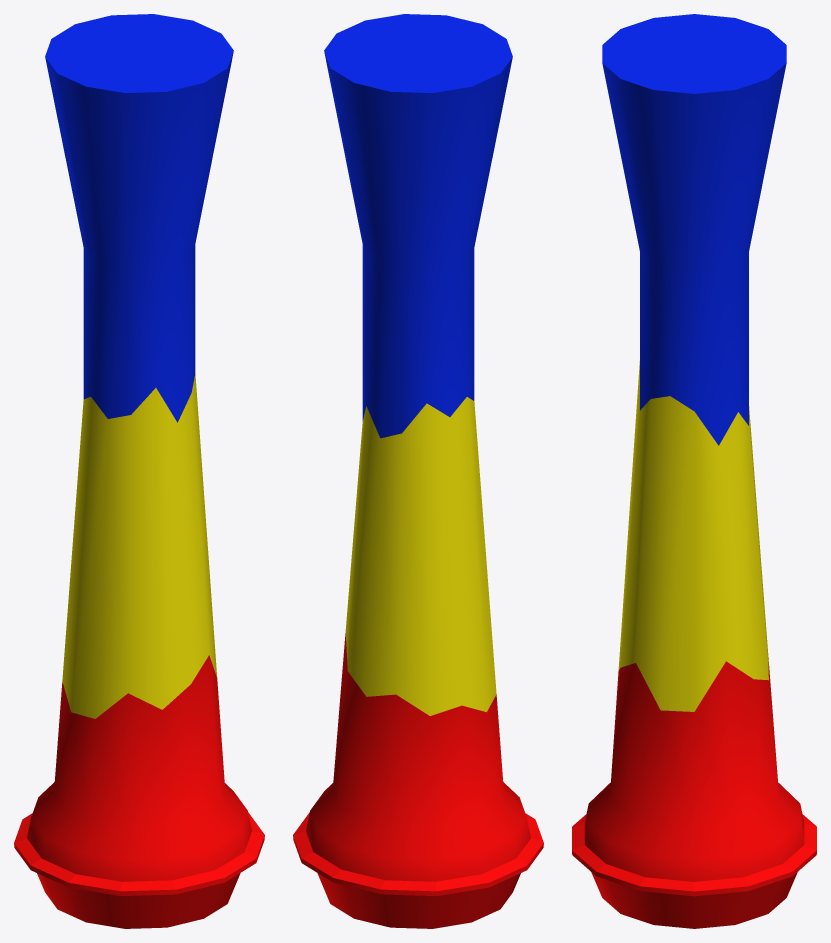
Rendered from body_E.FBX.
The picture shows the model from 3 angles, left to right: view 1: azimuth 30°, elevation 25°; view 2: azimuth 150°, elevation 25°; view 3: azimuth 270°, elevation 25°; orthographic projection.
Visible parts, largest first — view 1: pillar_E_bodyup, pillar_E_bodydown, pillar_E_bodymiddle; view 2: pillar_E_bodyup, pillar_E_bodydown, pillar_E_bodymiddle; view 3: pillar_E_bodyup, pillar_E_bodydown, pillar_E_bodymiddle.
Part boxes in pixels (x1,y1,x2,y2): pillar_E_bodyup: (45, 14, 233, 422); pillar_E_bodydown: (14, 655, 264, 928); pillar_E_bodymiddle: (62, 374, 217, 718); pillar_E_bodyup: (324, 14, 512, 438); pillar_E_bodydown: (293, 633, 543, 928); pillar_E_bodymiddle: (345, 397, 496, 715); pillar_E_bodyup: (602, 14, 786, 445); pillar_E_bodydown: (572, 657, 816, 928); pillar_E_bodymiddle: (618, 361, 768, 711).
Bounding box in the file's own units: 10.62 × 38.95 × 10.36.
